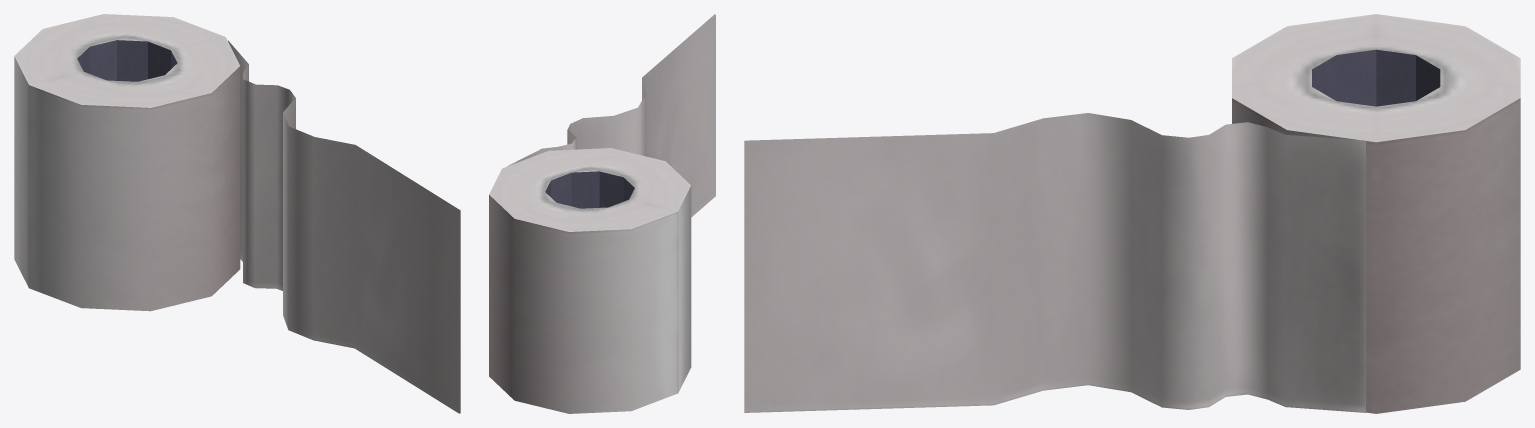
File: CeSuo_01_juanzhi_01.FBX
3 views of the same model, side by side, from view 1: azimuth 30°, elevation 25°; view 2: azimuth 150°, elevation 25°; view 3: azimuth 270°, elevation 25° (orthographic). The views are drawn at different scales.
Parts seen in each view (by area): view 1: CeSuo_01_juanzhi_01; view 2: CeSuo_01_juanzhi_01; view 3: CeSuo_01_juanzhi_01.
Boxes of the visible parts, <box> form: CeSuo_01_juanzhi_01: <box>14,14,460,413</box>; CeSuo_01_juanzhi_01: <box>489,14,715,413</box>; CeSuo_01_juanzhi_01: <box>744,14,1520,413</box>.
Bounding box in the file's own units: 40.85 × 40.32 × 104.
